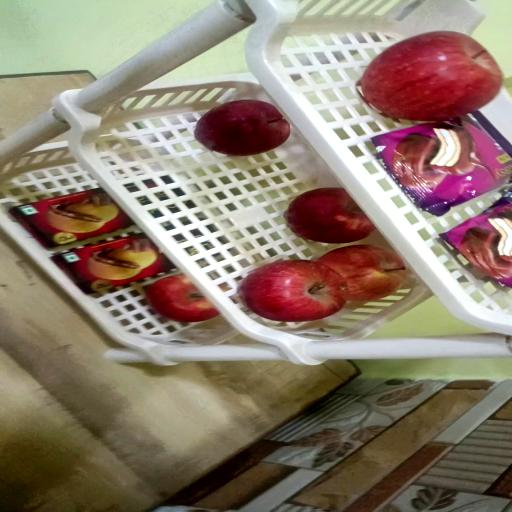Apple: (359, 30, 502, 122), (239, 261, 348, 324), (196, 100, 293, 156), (317, 247, 406, 304), (286, 190, 375, 246), (148, 276, 222, 324)
Choco Fills: (7, 190, 132, 251), (51, 236, 172, 297)
Choco Pie: (373, 111, 510, 215), (440, 193, 510, 289)
